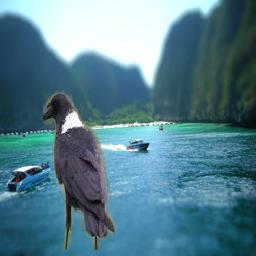Crow: (44, 90, 117, 250)
